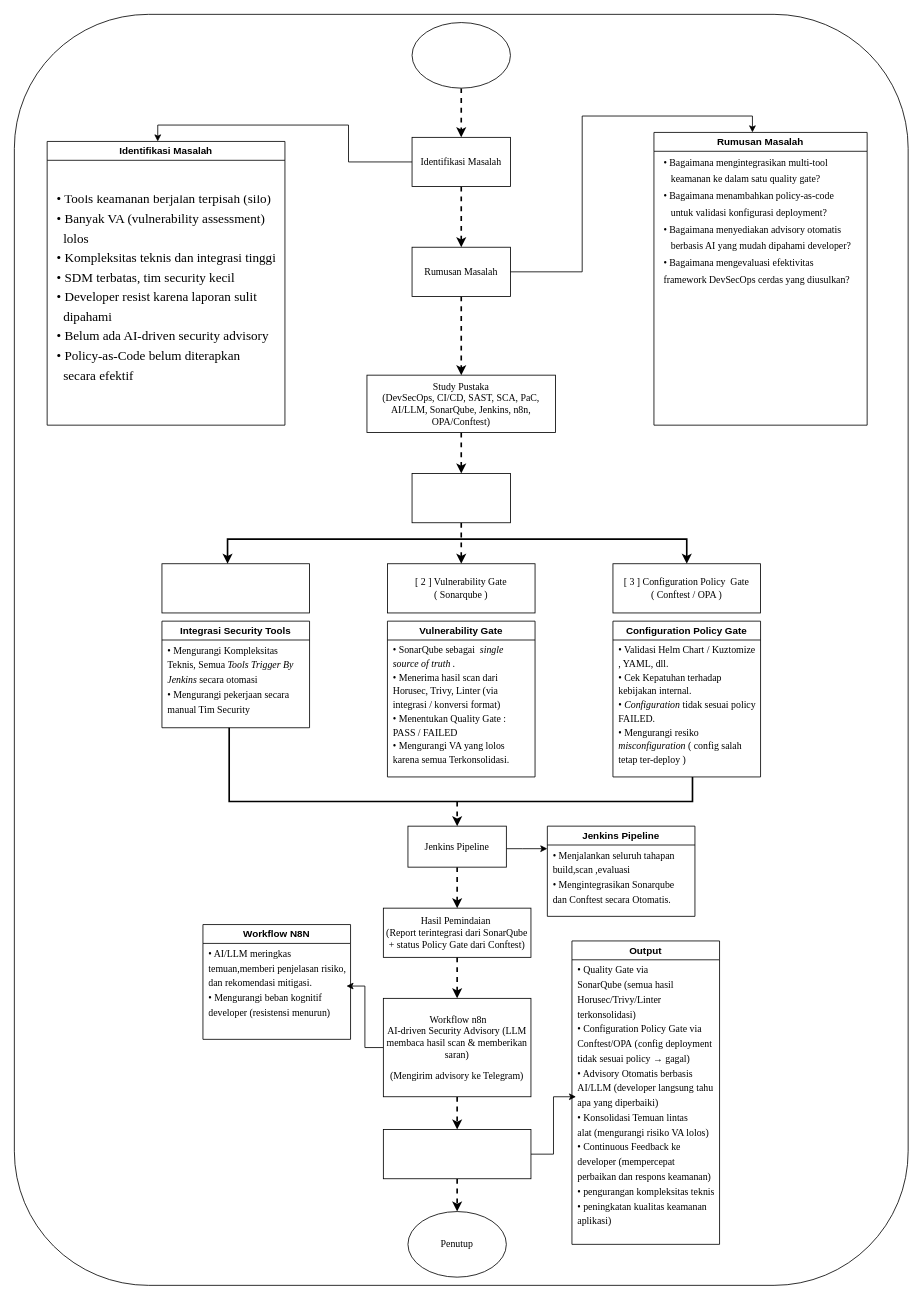
Some shapes in this 923 by 1300 pixel diagram are drawn without their labels. Each missing label, with the centre of its shape:
[ 1 ] Integrasi Security Tools ( Horusec , Trivy , Linter Tools ): point 235,588
Intelligent DevSecOps Framework Output: point 457,1154
Mulai: point 460,55
Tahap Integrasi dan Automasi DevSecOps: point 460,498
